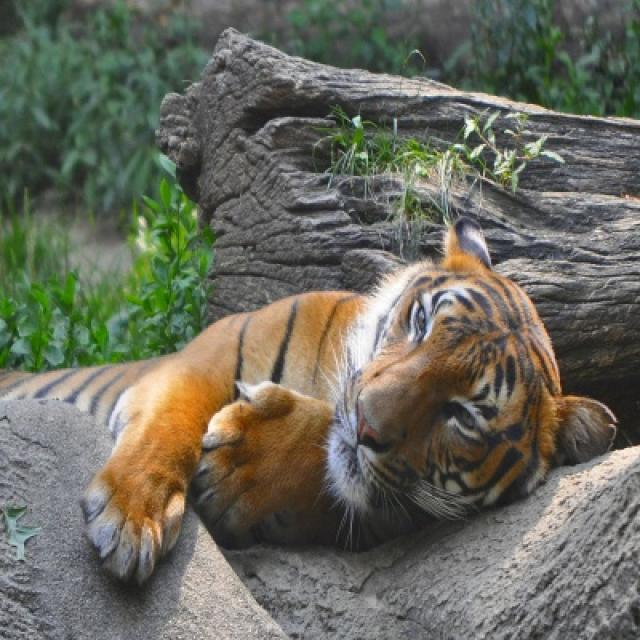Tiger: (0, 222, 615, 572)
